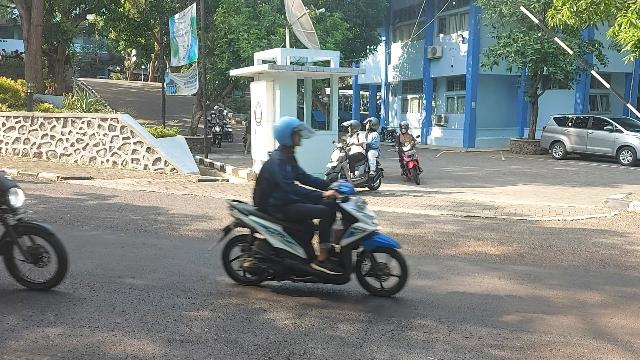helm: (275, 118, 316, 148), (364, 119, 381, 132), (343, 122, 361, 134), (400, 122, 410, 133)
motor: (209, 176, 409, 299), (325, 140, 385, 191), (393, 136, 423, 186)
